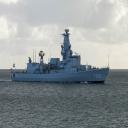Fragata: (12, 29, 112, 85)
